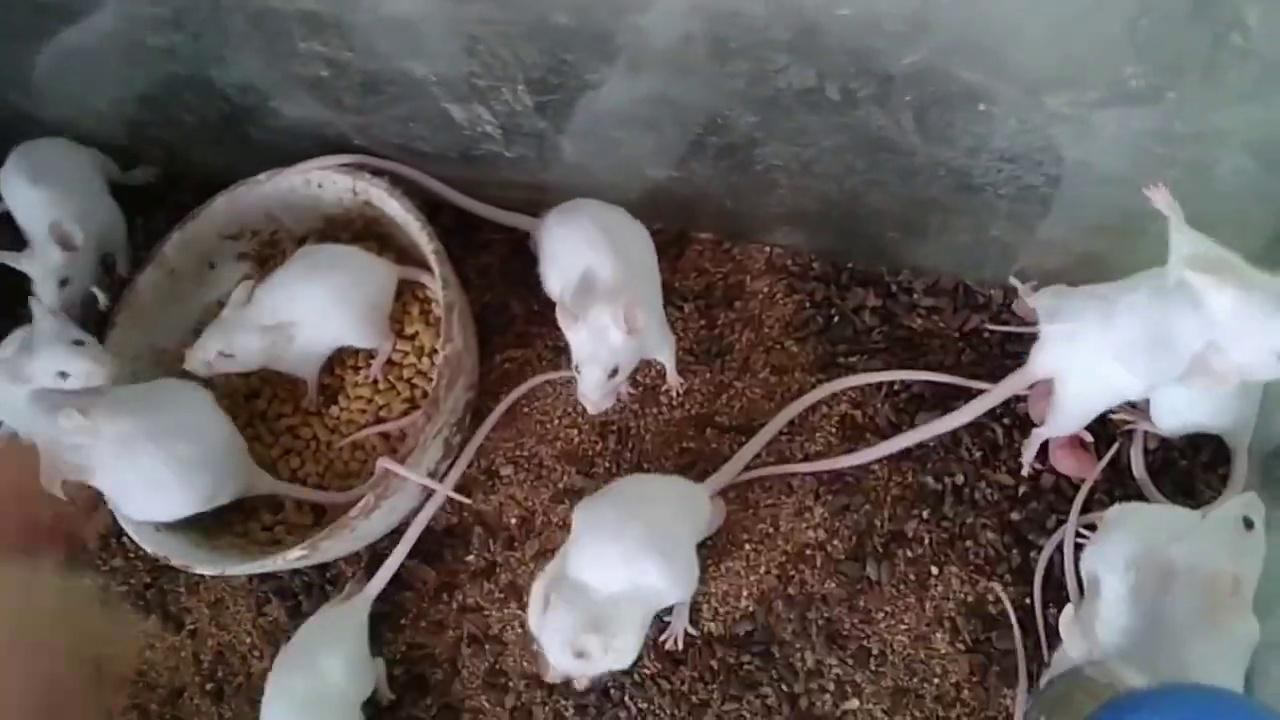rat: (714, 184, 1280, 478), (528, 369, 996, 688), (263, 366, 575, 720), (273, 150, 686, 411), (26, 379, 471, 522), (183, 245, 437, 413), (0, 138, 155, 320), (1135, 491, 1269, 693), (0, 298, 126, 424)
